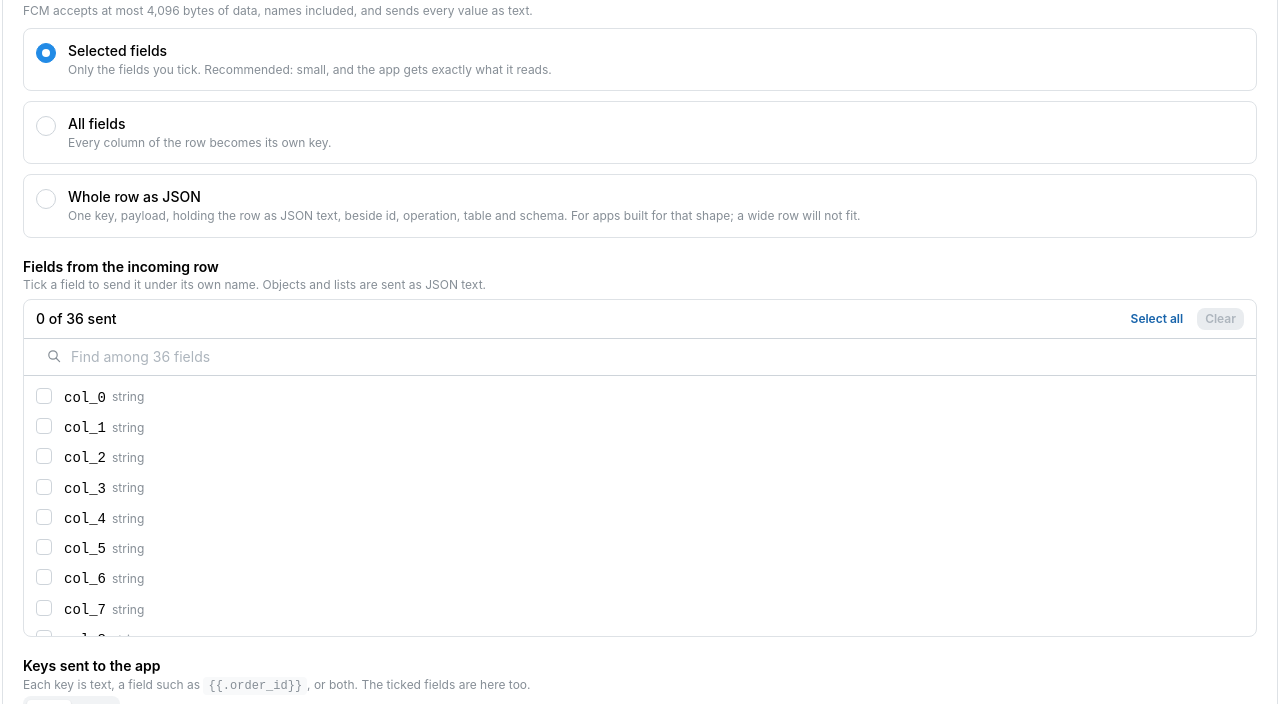
Test: the fcm app data section › lists every field of the incoming row
(page scrolled)
expect the text "0 of 36 sent" is shown: met, box [36,308,117,329]
Step 1. Type "disc" into the field named "Find a field" → (640,357), box [36,339,1244,375]
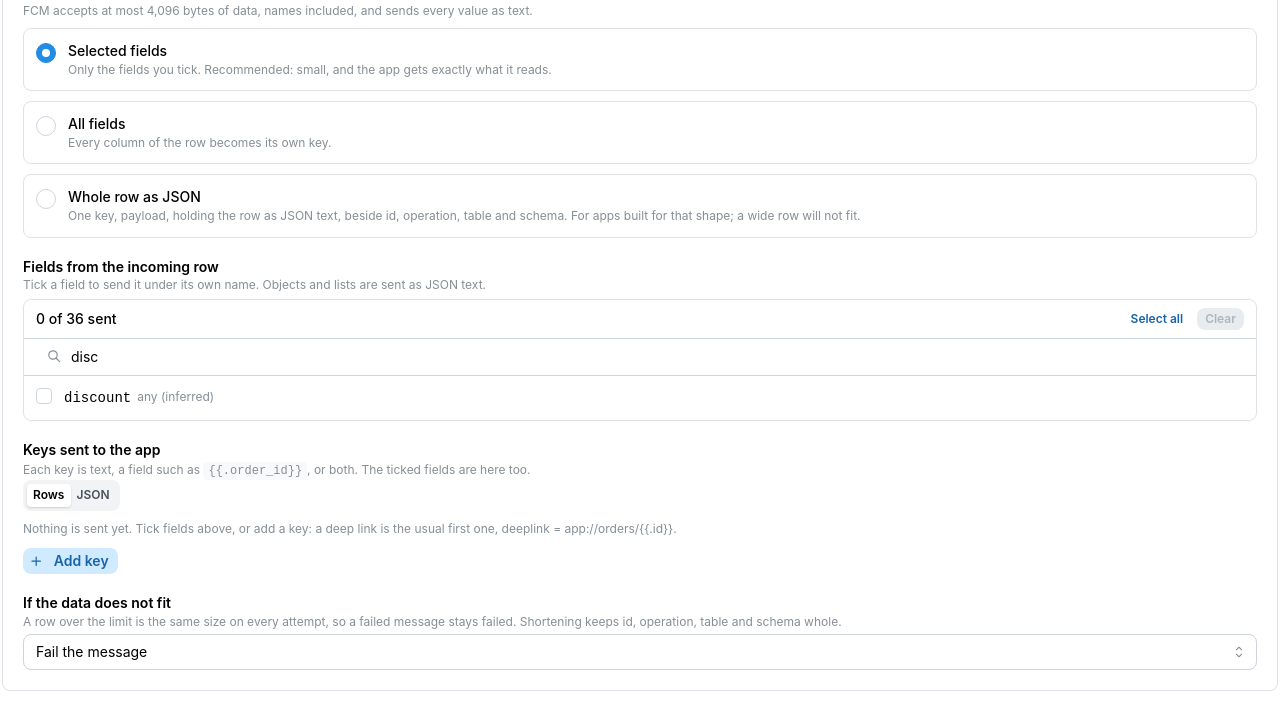
expect the checkbox labelled "discount" is shown: met, box [36,388,52,404]
expect the text "col_1" is gone: met
